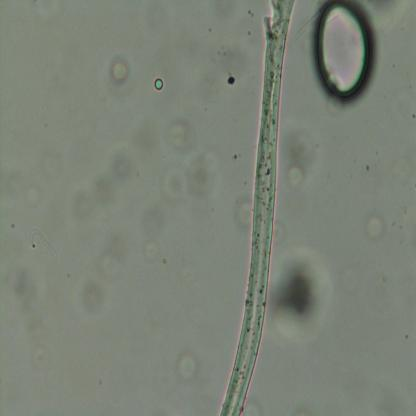Air bubble: (316, 1, 376, 107)
Background material: (270, 244, 334, 341), (155, 111, 218, 204), (2, 264, 52, 374), (71, 142, 135, 220), (79, 224, 132, 316), (280, 127, 321, 188), (218, 41, 245, 87), (108, 54, 134, 85), (233, 195, 256, 230), (176, 353, 200, 381), (364, 211, 384, 242), (153, 76, 165, 92), (365, 160, 369, 173)
Glass filter fibre: (29, 227, 57, 259), (294, 9, 320, 40)
Microfibre: (220, 0, 293, 415)
